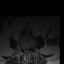CCS_normal: (25, 45, 27, 53)
LFS_stenosis: (29, 44, 31, 49)
LLS_stenosis: (27, 45, 29, 51)
RFS_normal: (22, 44, 24, 51)
RLS_normal: (24, 45, 25, 51)
